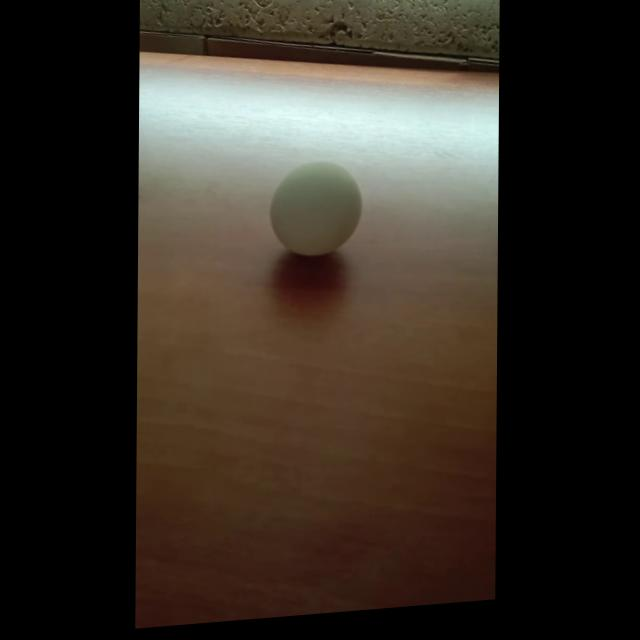white ball: (268, 156, 363, 260)
